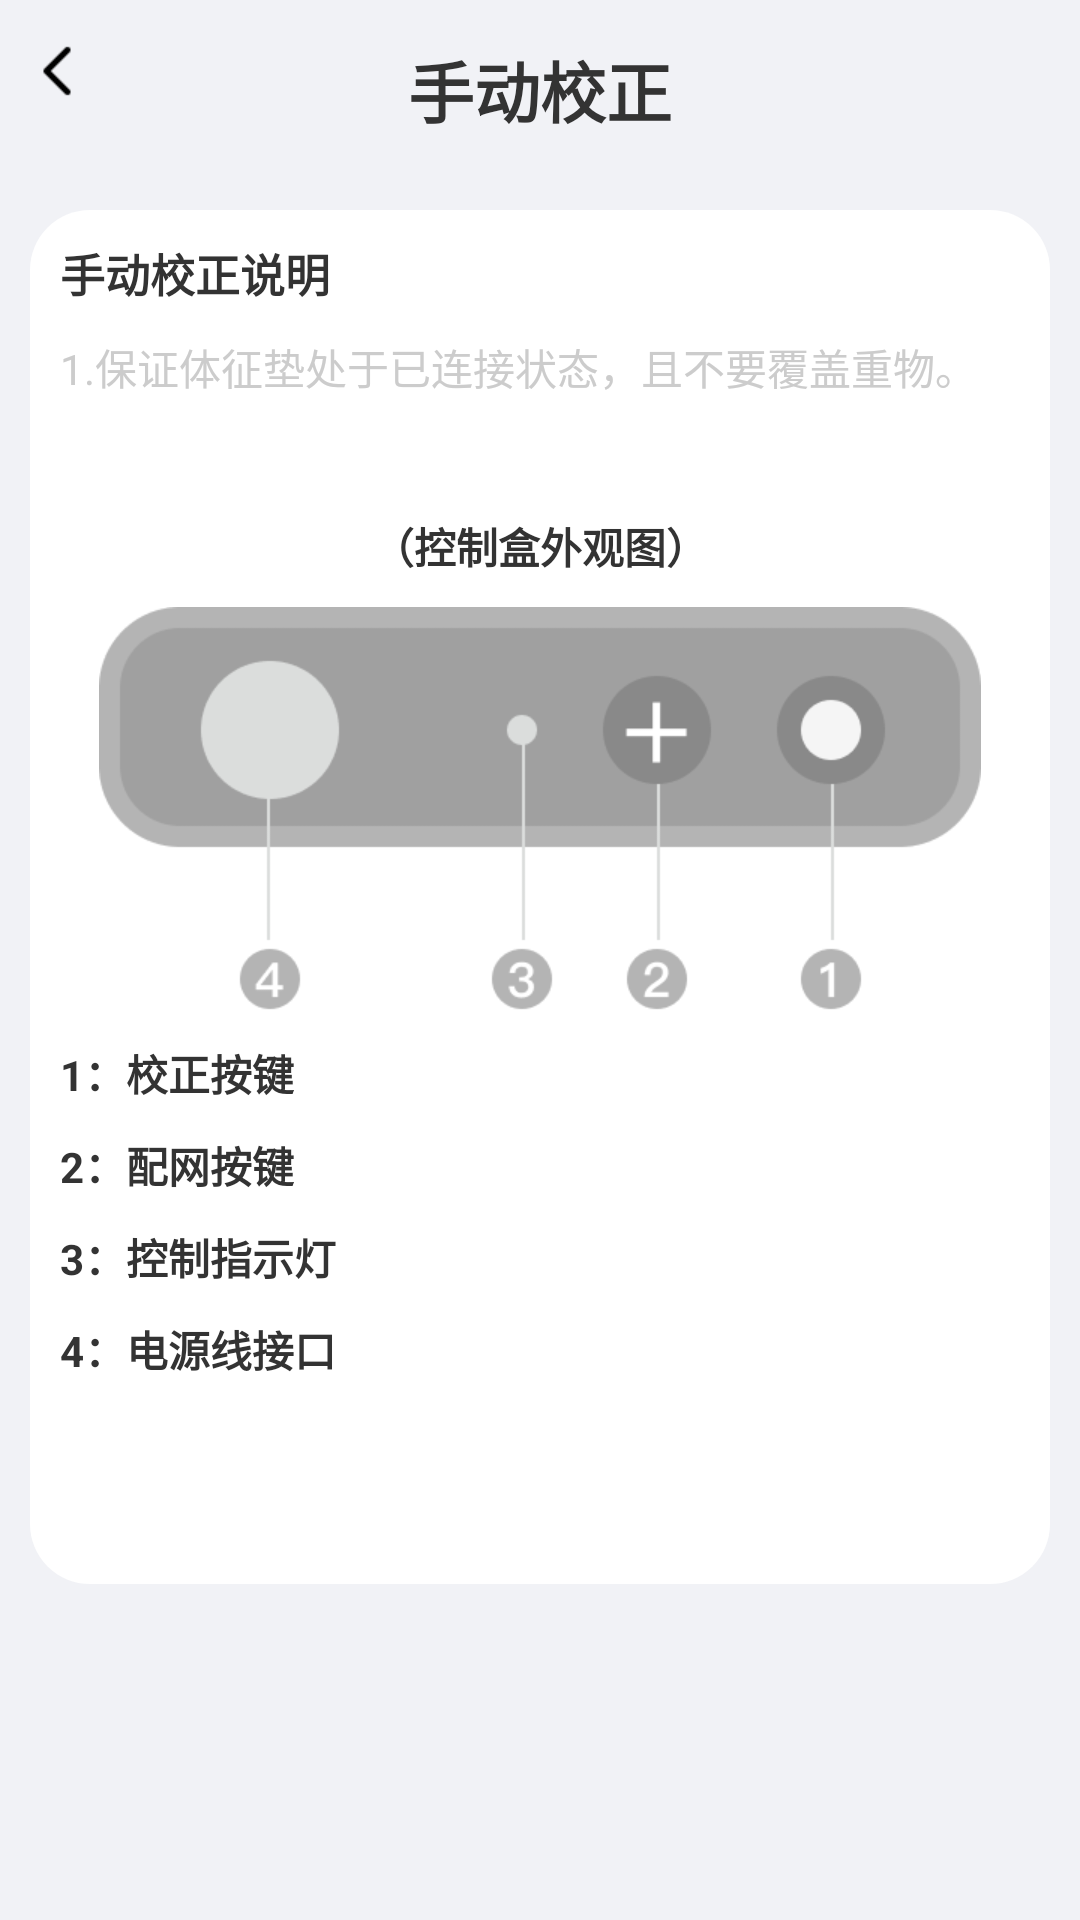

Where icons sit on this 1080 x 1920 app screen, as region(x1, y1, x2, y2):
back: region(43, 46, 71, 96)
